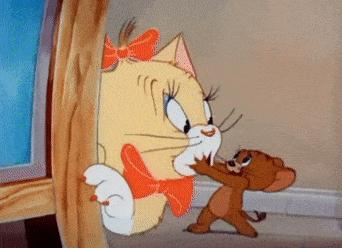jerry: (188, 146, 298, 239)
